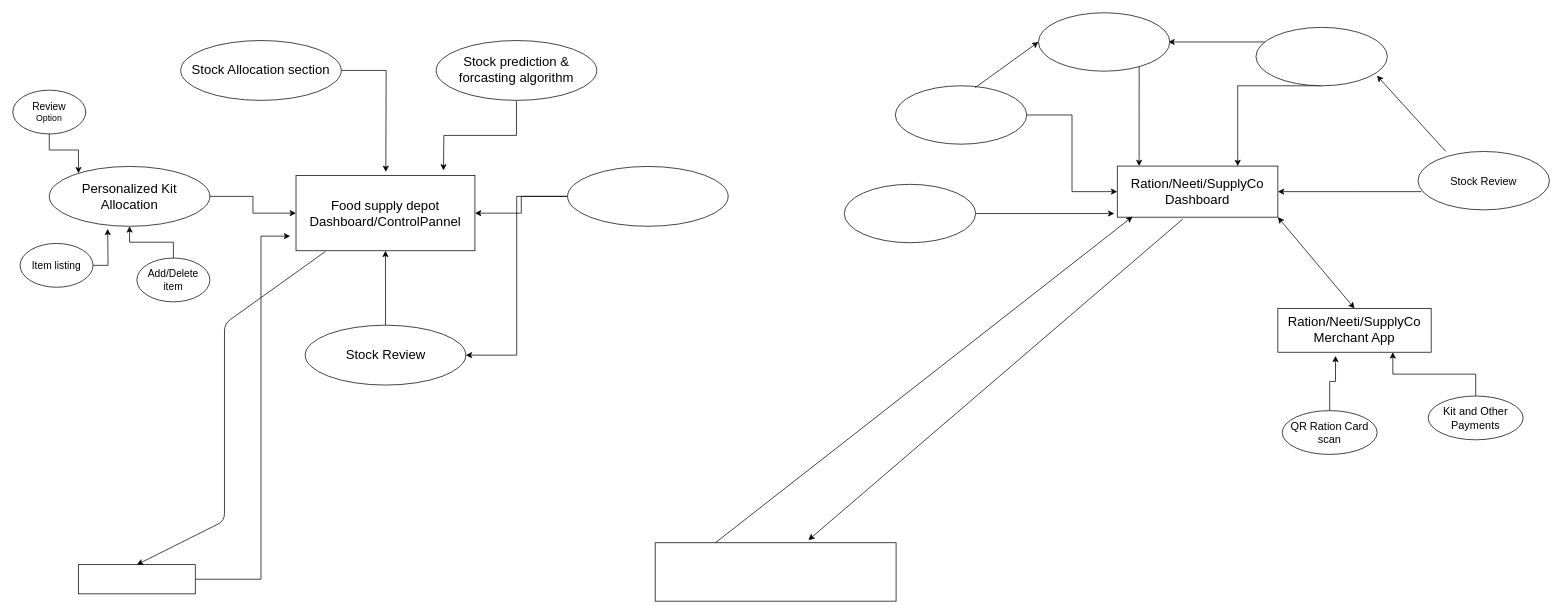
This 1562x614 diagram has some shape labels left out. Here are the shapes that lost their labels. From the top down, the box of each, then its label:
(1038, 12, 1170, 71): Bill Payment History
(1255, 27, 1387, 86): Stock Allocation
(895, 85, 1027, 144): Personalized Kit Review System
(567, 166, 728, 226): Bill Review
(844, 184, 976, 243): Personlized recommendation algortihm
(78, 564, 195, 594): Ration/Neethi/Supplyco Dashboard
(654, 542, 896, 601): Food Suppply Depot Dashboard/Control Pannel
